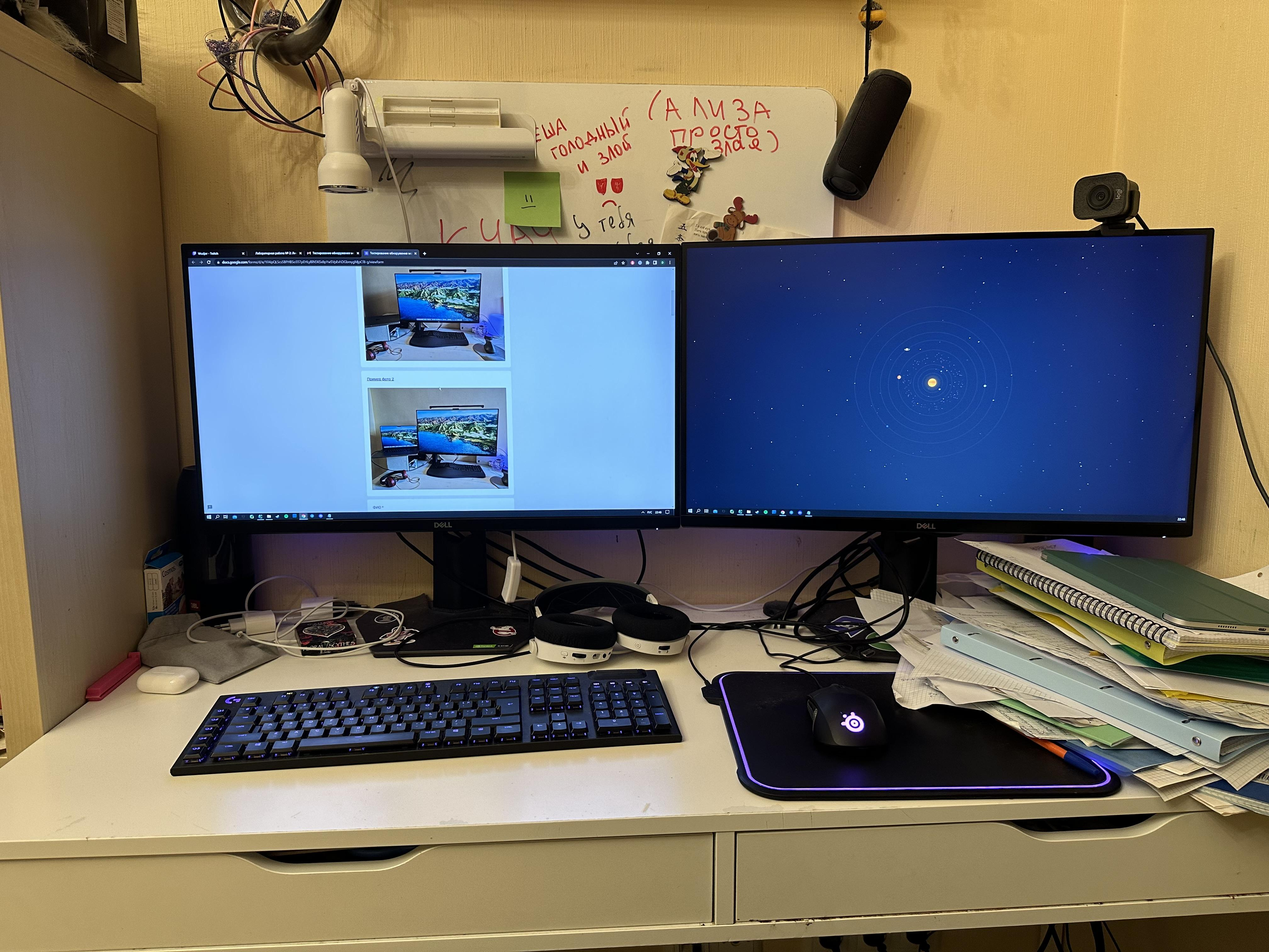monitor: (675, 222, 1221, 669), (173, 236, 692, 649)
